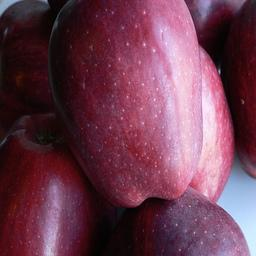apple: (47, 1, 201, 205), (1, 126, 111, 255)
